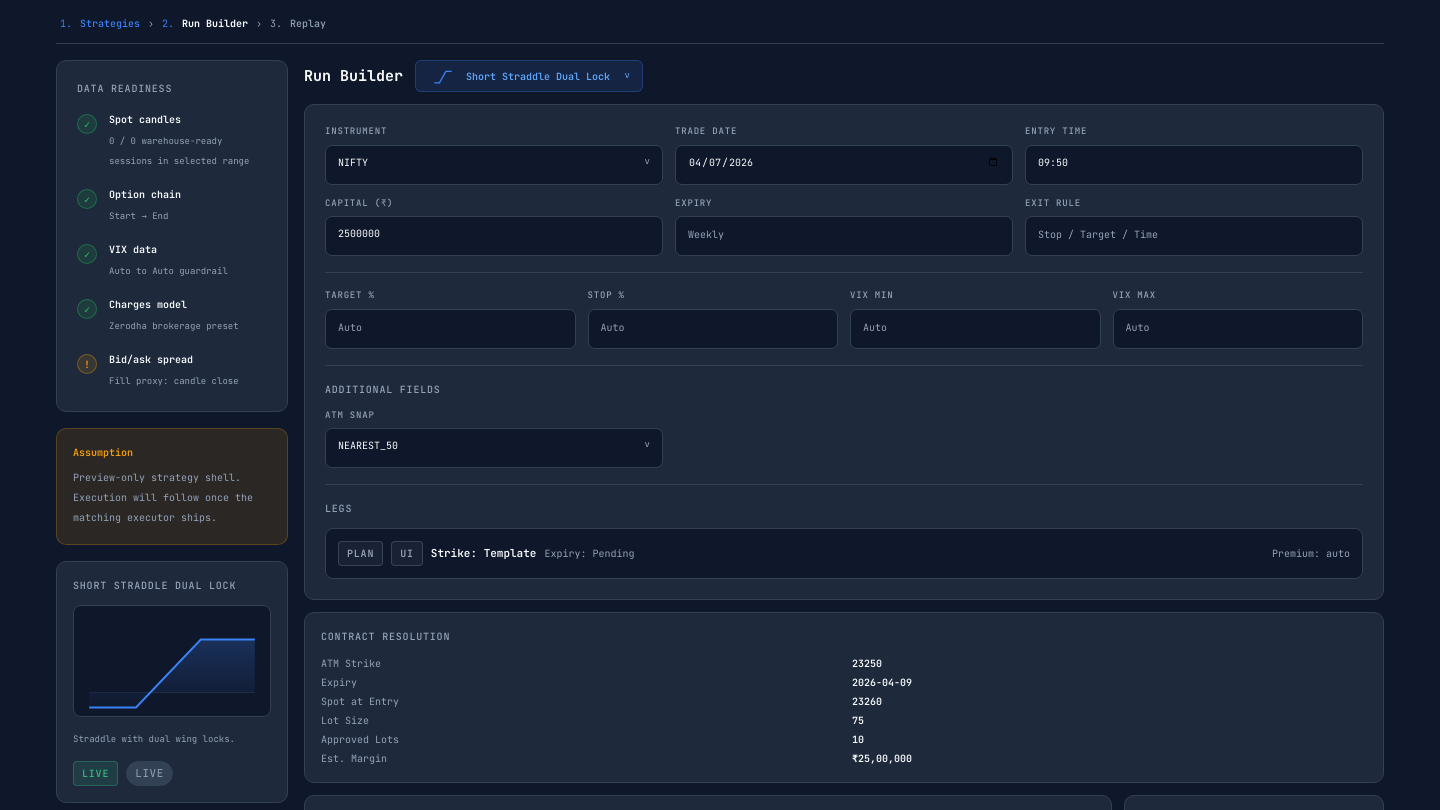
Scenario: RunBuilder › revalidates contract resolution when ATM Snap changes
Expected: the text "23250" is shown, x1=852 y1=657 x2=882 y2=670
Select "NEAREST_100" in the dropdown labelled "ATM Snap" at {"x": 494, "y": 446}, box x1=338 y1=438 x2=650 y2=453
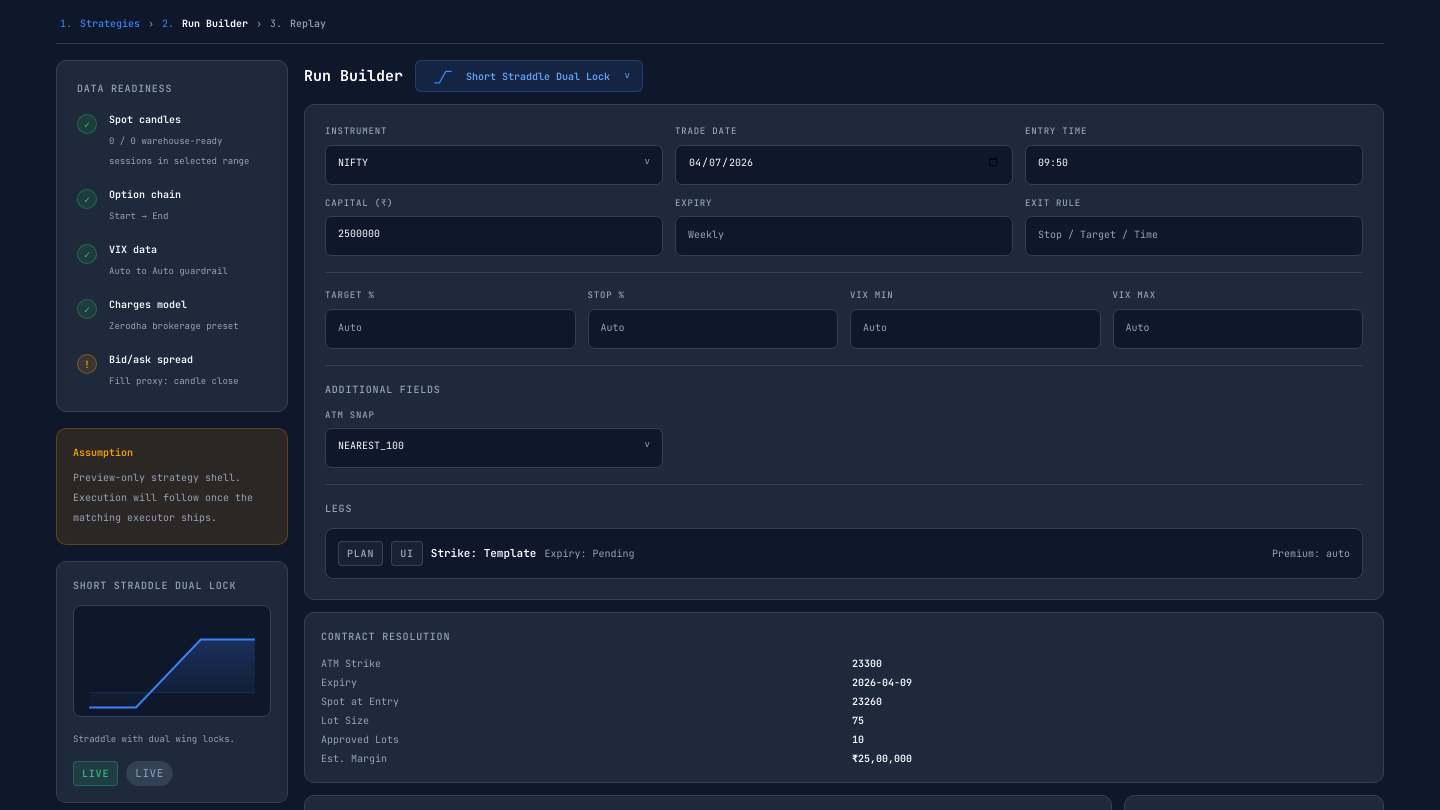
Now the text "23300" is shown, box x1=852 y1=657 x2=882 y2=670
